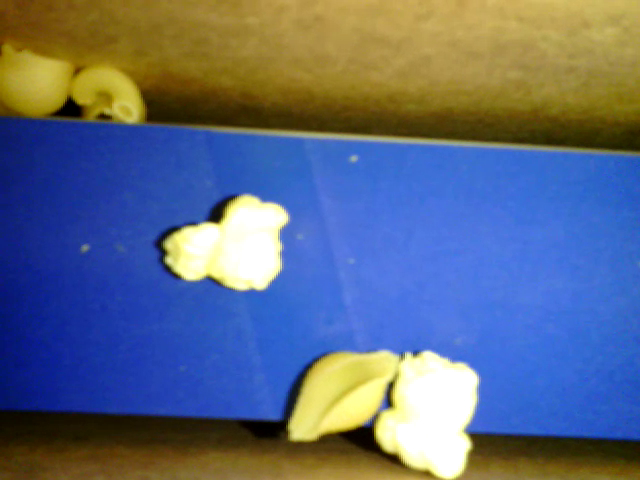elbow: (69, 64, 139, 121)
shell: (287, 348, 400, 441), (1, 44, 73, 115), (83, 92, 146, 124)
